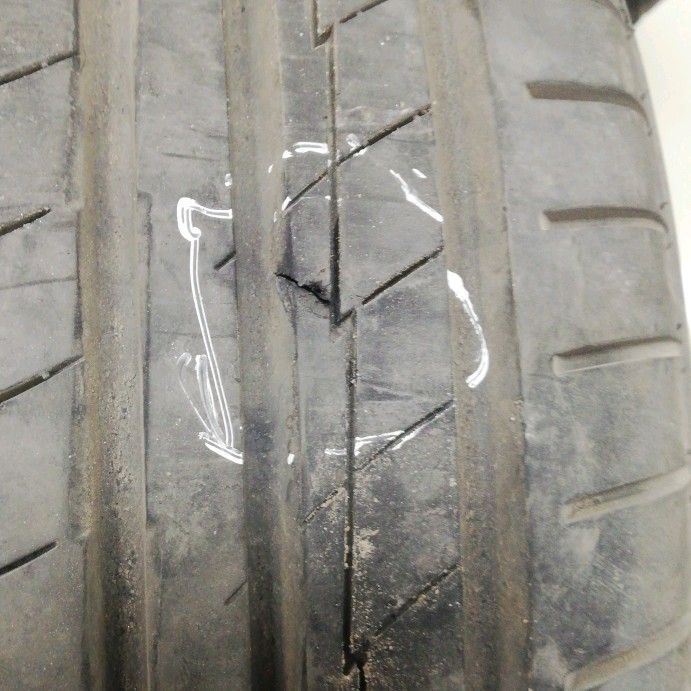tr: (266, 265, 357, 338)
